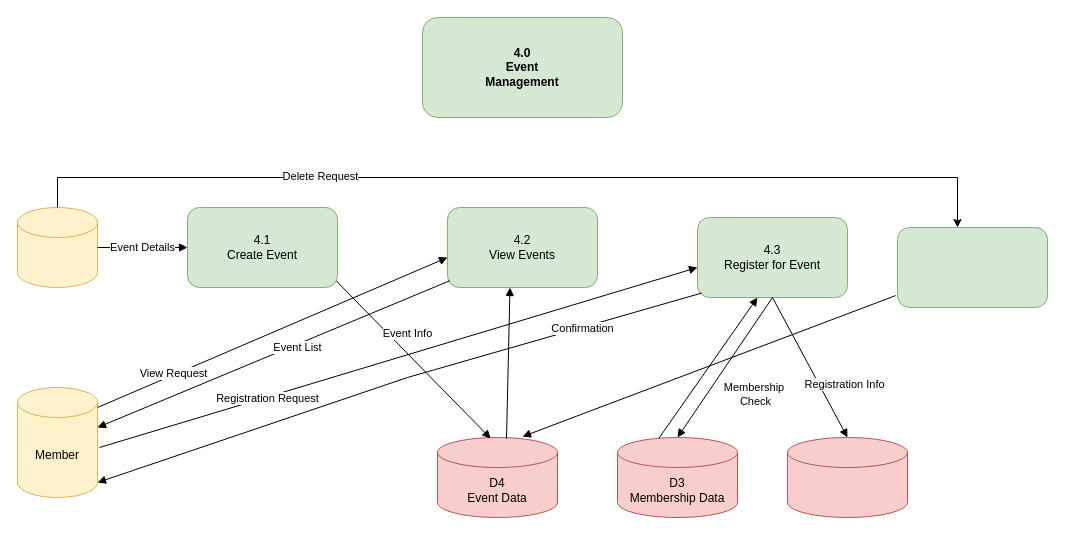
This 1065x535 diagram has some shape labels left out. The shapes that lost their labels are listed below. From the top down, each one's centre as x and y in pixels, then its label:
point (57, 247): Executive
point (972, 267): 4.4 Delete Event
point (847, 477): D7 Registration Data
